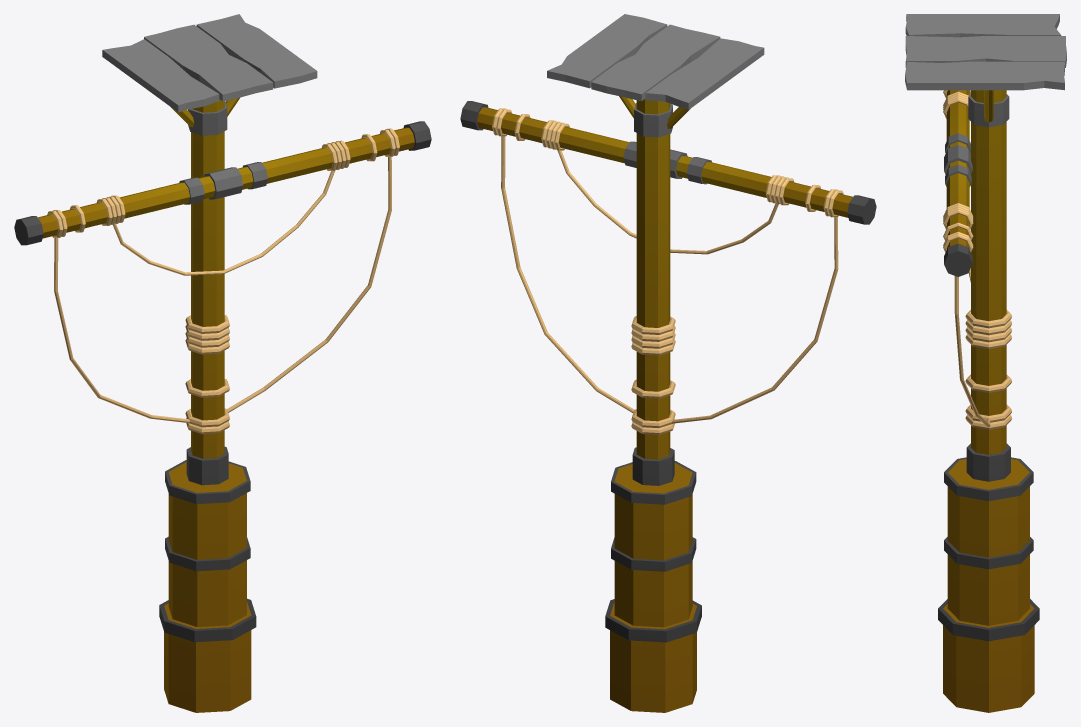
File: wooden-post-2.glb
The picture shows the model from 3 angles, left to right: view 1: azimuth 30°, elevation 25°; view 2: azimuth 150°, elevation 25°; view 3: azimuth 270°, elevation 25°; orthographic projection.
Parts seen in each view (by area): view 1: wooden post 2; view 2: wooden post 2; view 3: wooden post 2.
Boxes of the visible parts, x1,y1,x2,y2 form: wooden post 2: (14, 14, 431, 712); wooden post 2: (460, 14, 876, 712); wooden post 2: (905, 14, 1066, 712).
Bounding box in the file's own units: 6.44 × 9.71 × 2.21.
Materials: 1 (1 with a texture image).
